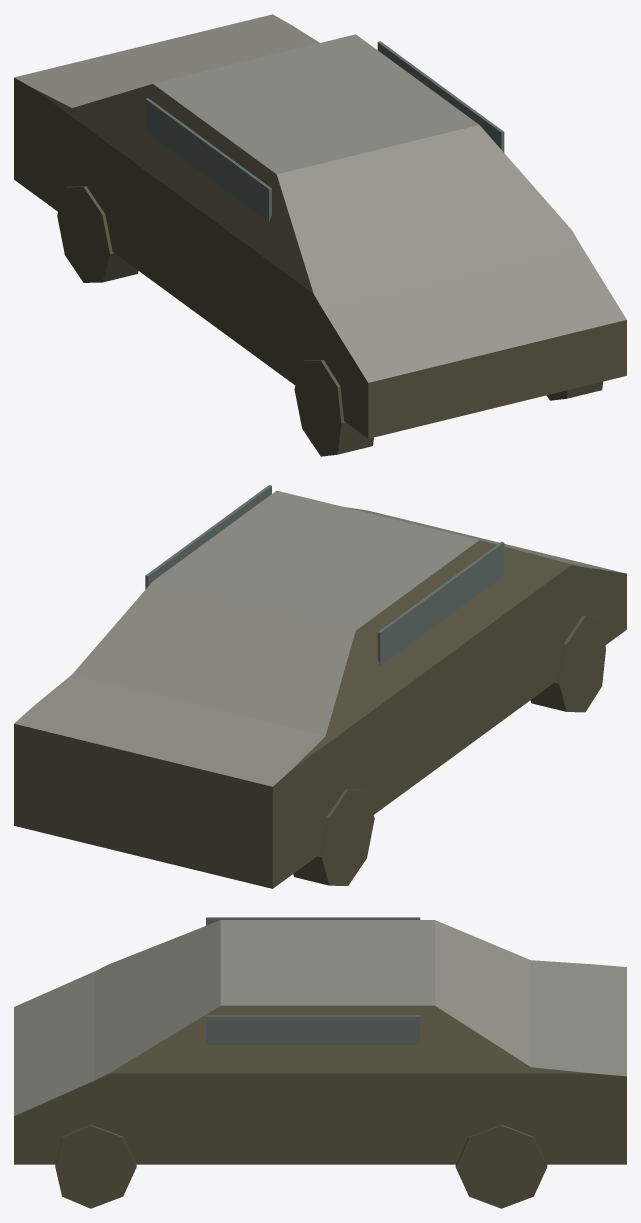
The model's file is SM_CocheCivil_Berlina_v3_LOD1.fbx.
3 views of the same model, one above another, from view 1: azimuth 30°, elevation 25°; view 2: azimuth 150°, elevation 25°; view 3: azimuth 270°, elevation 25° (orthographic). The views are drawn at different scales.
Parts seen in each view (by area): view 1: SM_coche_civil_v8_LOD1; view 2: SM_coche_civil_v8_LOD1; view 3: SM_coche_civil_v8_LOD1.
Part boxes in pixels (x1,y1,x2,y2): SM_coche_civil_v8_LOD1: (14,14,626,456); SM_coche_civil_v8_LOD1: (14,485,626,888); SM_coche_civil_v8_LOD1: (14,917,626,1208).
Bounding box in the file's own units: 1.79 × 1.42 × 4.15.
